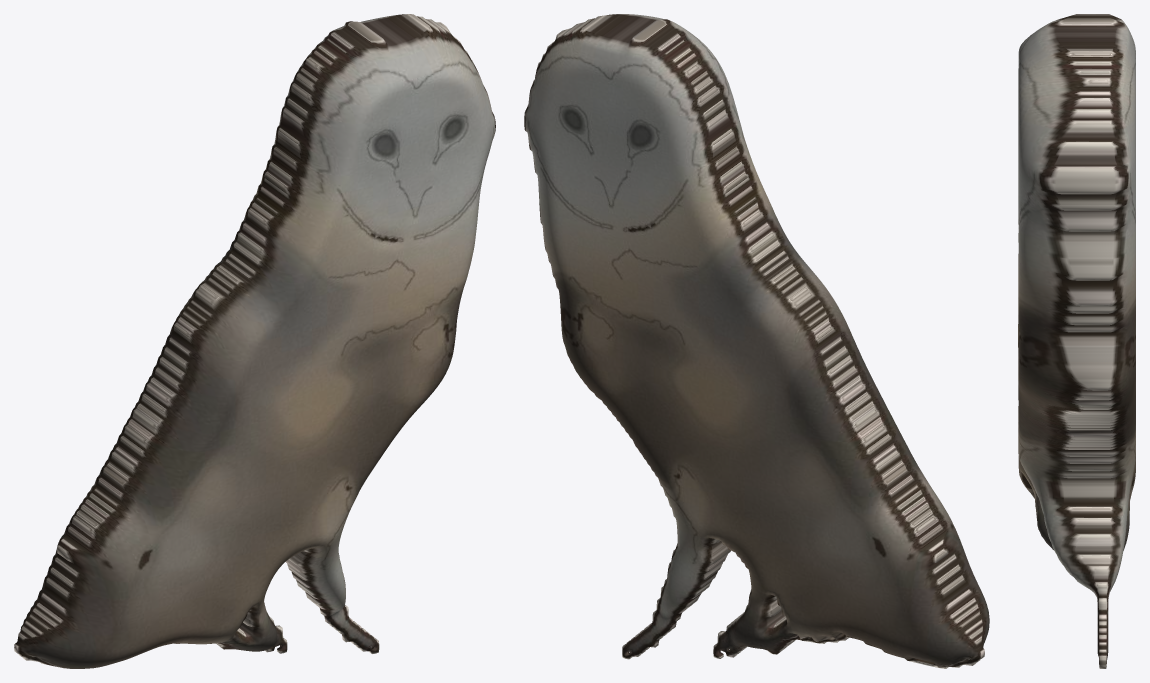
File: owl_324147361.glb
The picture shows the model from 3 angles, left to right: view 1: azimuth 30°, elevation 25°; view 2: azimuth 150°, elevation 25°; view 3: azimuth 270°, elevation 25°; orthographic projection. The views are drawn at different scales.
Parts seen in each view (by area): view 1: owl_324147361; view 2: owl_324147361; view 3: owl_324147361.
Boxes of the visible parts, x1,y1,x2,y2 form: owl_324147361: (14, 14, 495, 668); owl_324147361: (524, 14, 989, 668); owl_324147361: (1018, 14, 1135, 668).
Bounding box in the file's own units: 1.48 × 1.97 × 0.3287.
1 material, 1 textured.
